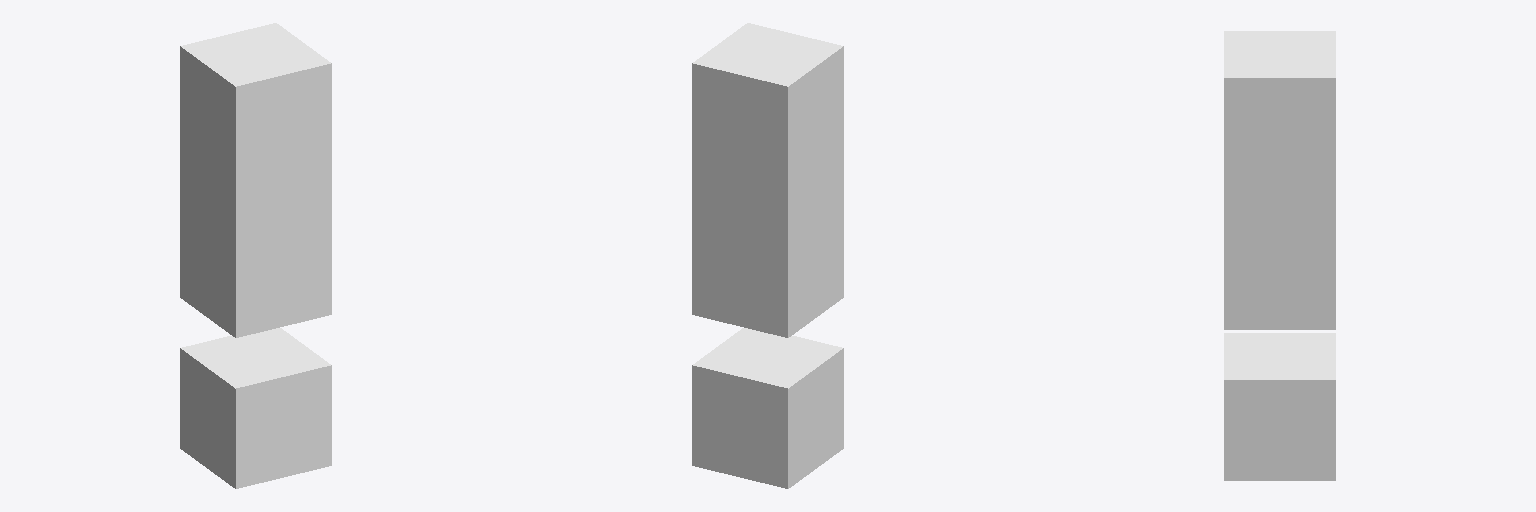
File: alarmed.obj
The picture shows the model from 3 angles: view 1: azimuth 30°, elevation 25°; view 2: azimuth 150°, elevation 25°; view 3: azimuth 270°, elevation 25°; orthographic projection.
Bounding box in the file's own units: 2 × 8 × 2.